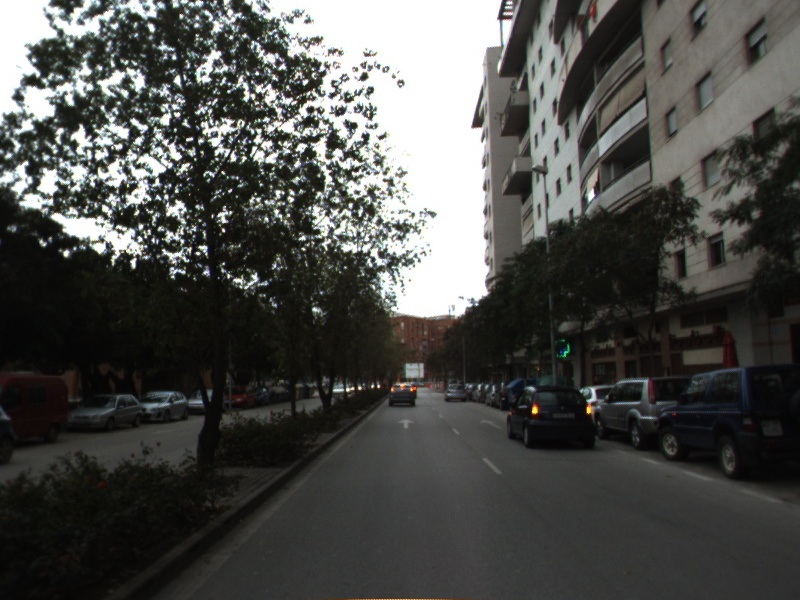STRAIGHT: (477, 417, 505, 431), (396, 417, 417, 431)
